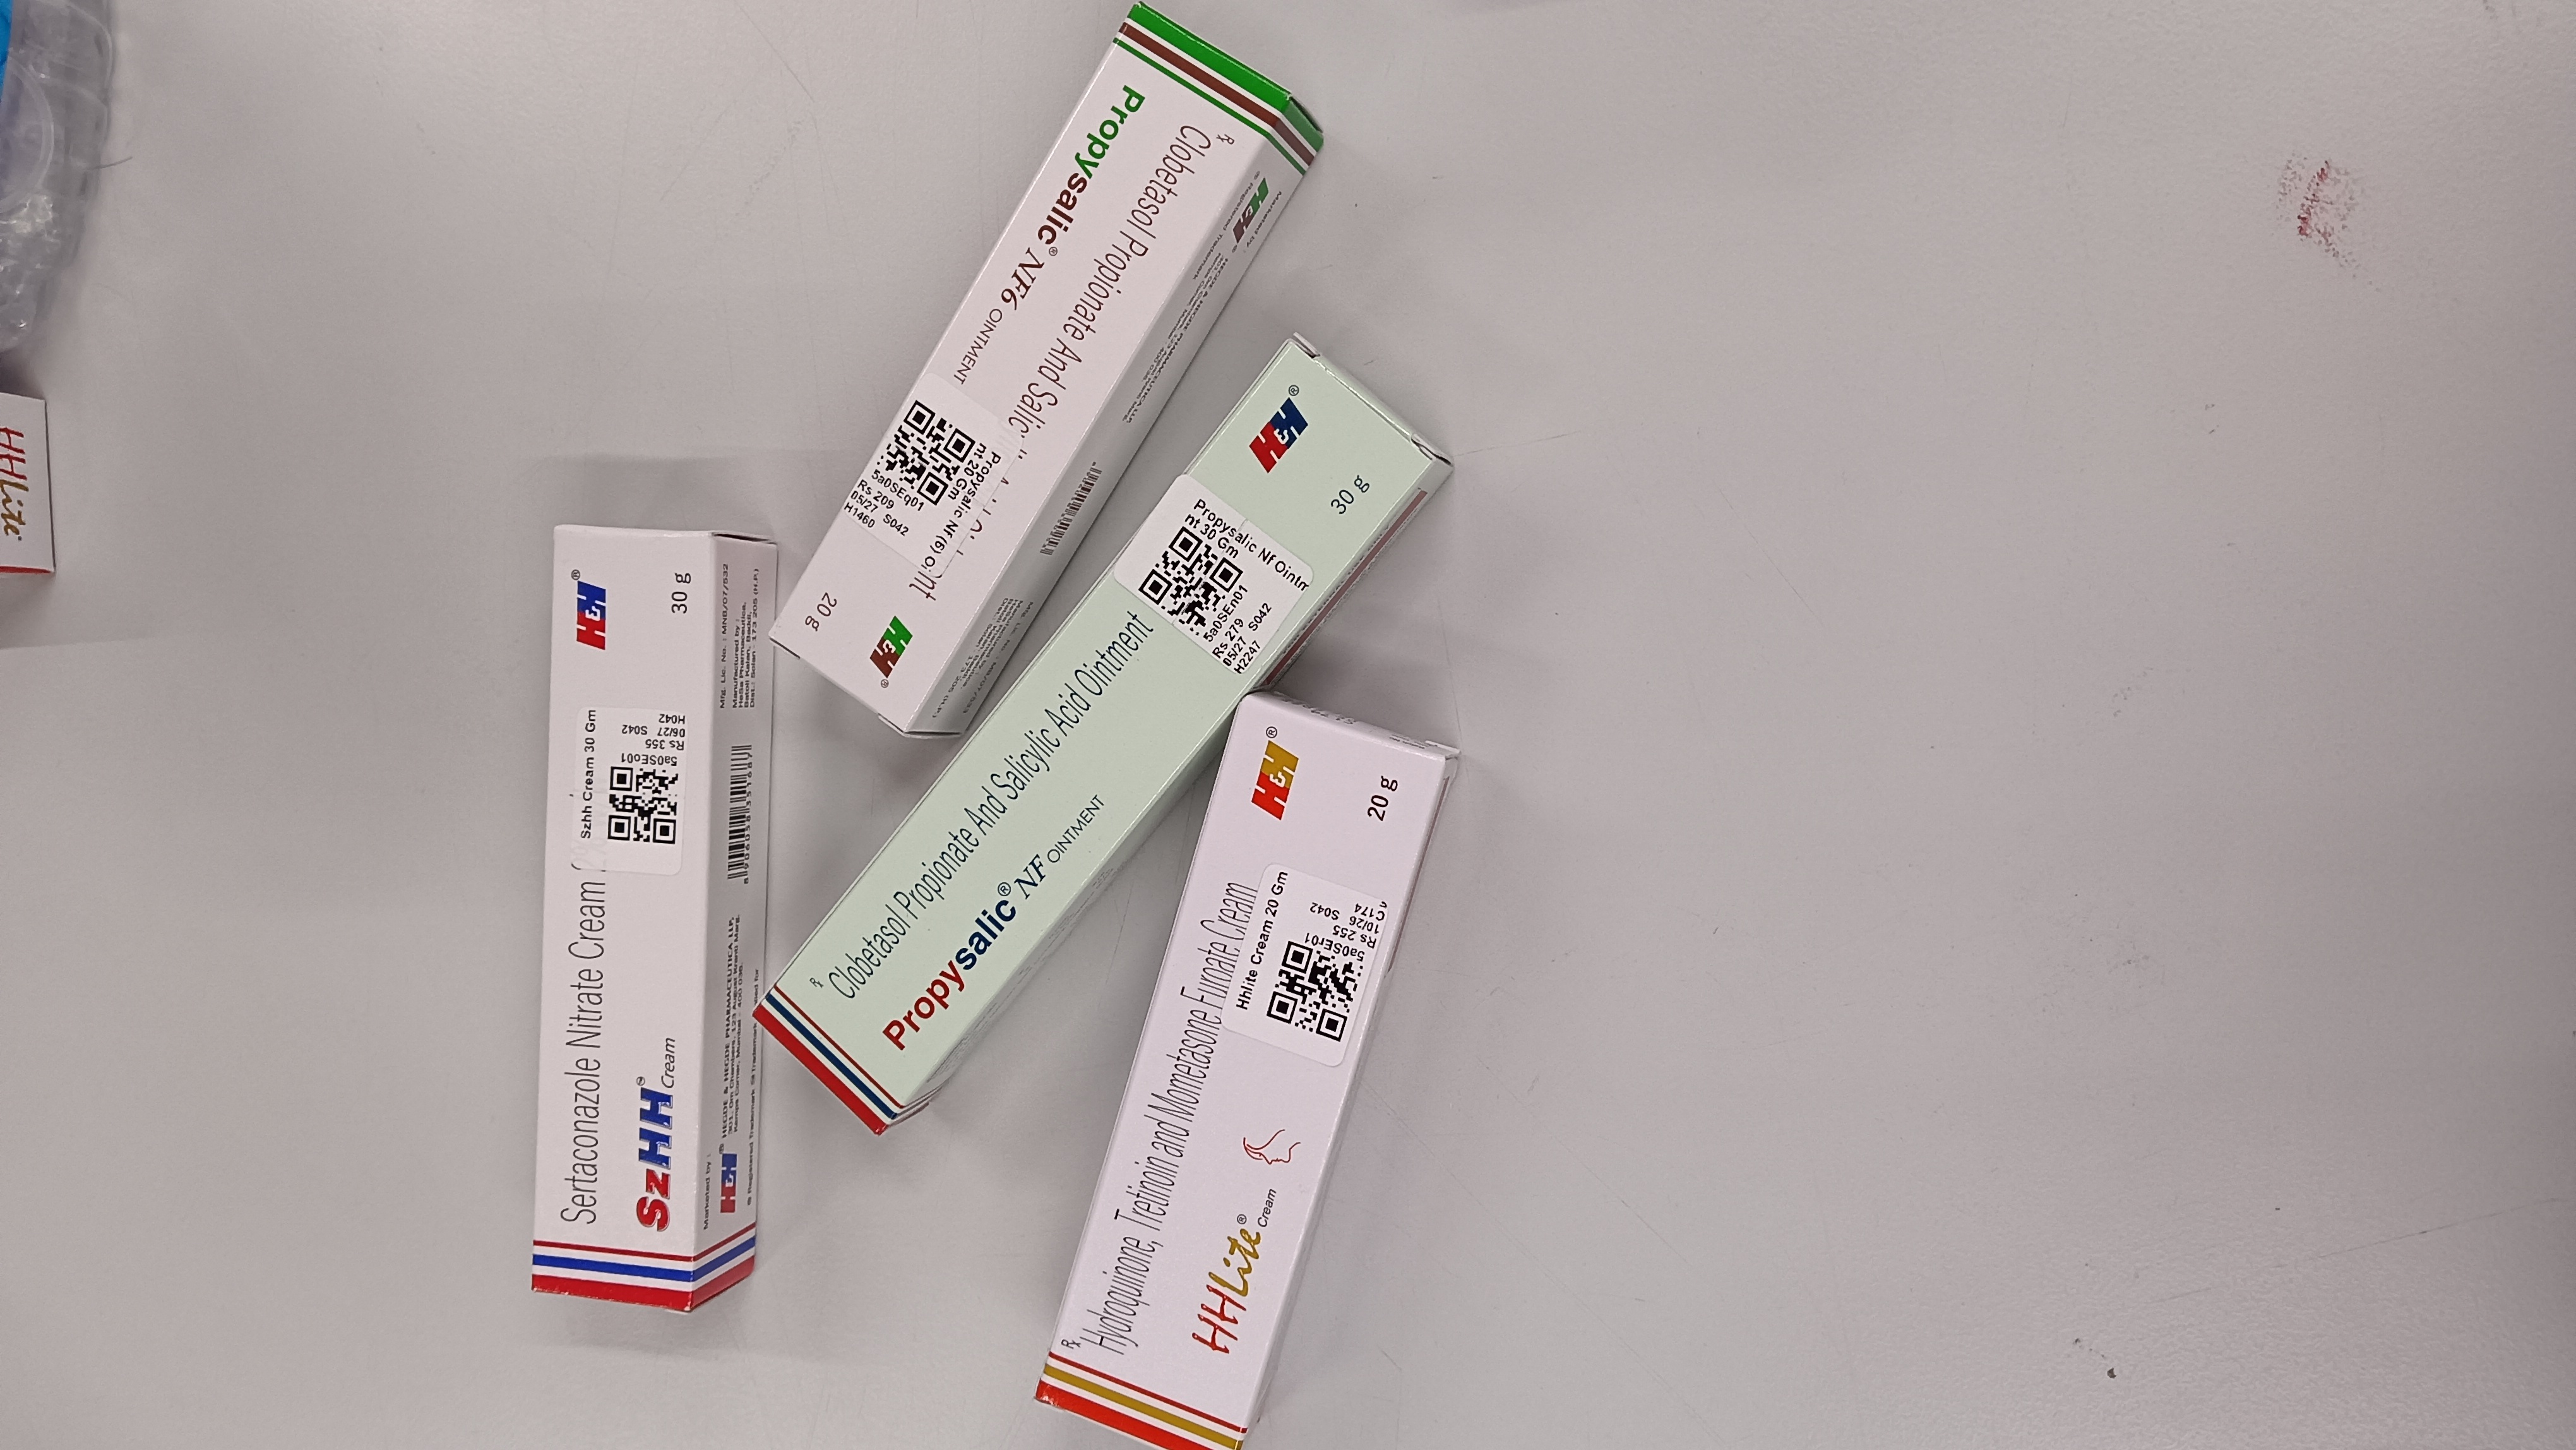QR: (1138, 469, 1244, 581), (876, 345, 975, 453), (1267, 889, 1364, 991), (607, 726, 678, 806)
